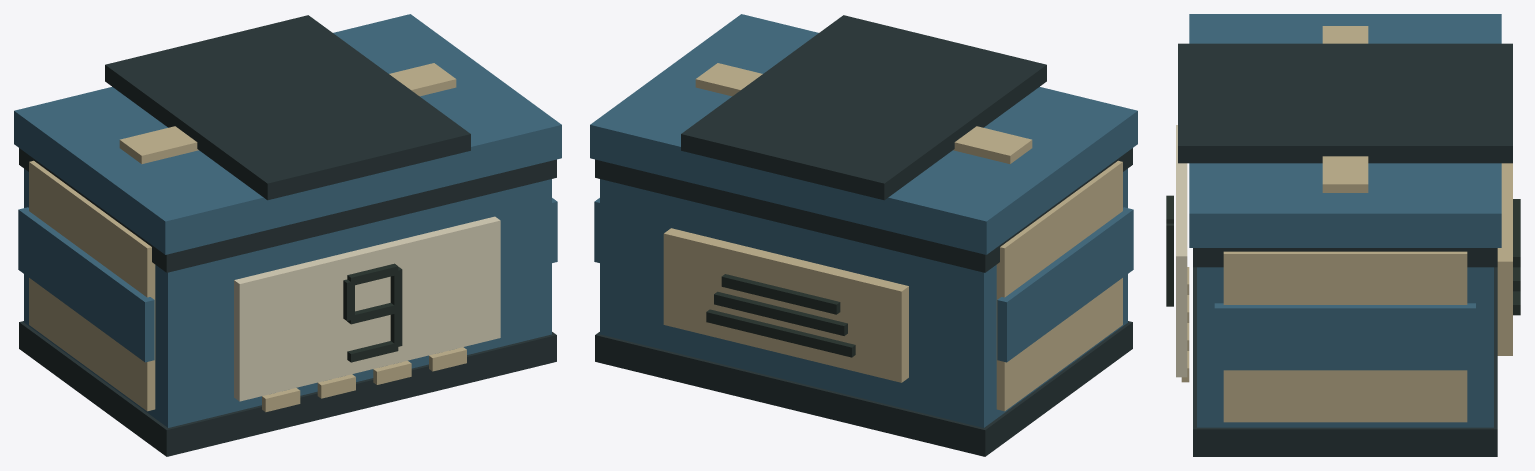
Rendered from FSA_AMMO_Pack_9mm.glb.
3 views of the same model, side by side, from view 1: azimuth 30°, elevation 25°; view 2: azimuth 150°, elevation 25°; view 3: azimuth 270°, elevation 25° (orthographic). The views are drawn at different scales.
Visible parts, largest first — view 1: ClosedLid, SleeveTop, LabelPlate, Package, BaseSeam, Fold_-1, SealEnd_-1, LidSeam, TopFold, LotStripe_0, LotStripe_1, LotStripe_2 (+3 smaller); view 2: ClosedLid, Package, SleeveTop, RearPanel, BaseSeam, Fold_-1, SealEnd_-1, LidSeam, TopFold, RearLine_0, RearLine_1, RearLine_2; view 3: SleeveTop, ClosedLid, Fold_1, SealEnd_1, BaseSeam, Package, RearPanel, LabelPlate, TopFold, LidSeam, RearLine_2.
Part boxes in pixels (x1,y1,x2,y2): ClosedLid: [14, 14, 561, 254]; SleeveTop: [105, 15, 470, 200]; LabelPlate: [234, 216, 500, 401]; Package: [24, 168, 551, 427]; BaseSeam: [19, 321, 556, 456]; Fold_-1: [29, 160, 155, 411]; SealEnd_-1: [18, 207, 154, 362]; LidSeam: [19, 148, 556, 272]; TopFold: [119, 63, 456, 163]; LotStripe_0: [262, 388, 300, 412]; LotStripe_1: [317, 374, 355, 398]; LotStripe_2: [373, 360, 411, 384]; ClosedLid: [590, 14, 1137, 254]; Package: [600, 168, 1127, 427]; SleeveTop: [681, 15, 1046, 200]; RearPanel: [663, 228, 908, 382]; BaseSeam: [595, 321, 1132, 456]; Fold_-1: [996, 160, 1122, 411]; SealEnd_-1: [997, 207, 1133, 362]; LidSeam: [595, 148, 1132, 272]; TopFold: [695, 63, 1032, 163]; RearLine_0: [706, 309, 855, 357]; RearLine_1: [714, 291, 847, 335]; RearLine_2: [721, 274, 840, 314]; SleeveTop: [1178, 43, 1512, 163]; ClosedLid: [1189, 14, 1501, 247]; Fold_1: [1223, 251, 1467, 422]; SealEnd_1: [1214, 303, 1475, 370]; BaseSeam: [1193, 267, 1497, 456]; Package: [1197, 267, 1493, 427]; RearPanel: [1497, 163, 1512, 355]; LabelPlate: [1176, 125, 1187, 377]; TopFold: [1322, 26, 1368, 192]; LidSeam: [1193, 248, 1497, 267]; RearLine_2: [1513, 199, 1520, 267].
Bounding box in the file's own units: 0.129 × 0.0765 × 0.093.
